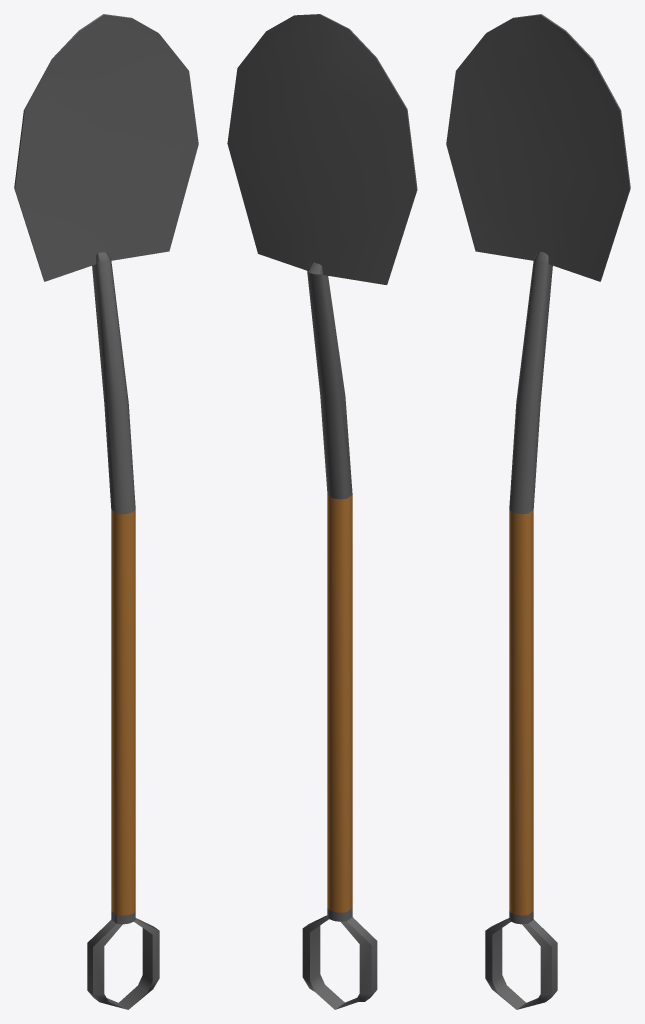
Rendered from shovel.fbx.
3 views of the same model, side by side, from view 1: azimuth 30°, elevation 25°; view 2: azimuth 150°, elevation 25°; view 3: azimuth 330°, elevation 25° (orthographic). The views are drawn at different scales.
Parts seen in each view (by area): view 1: Shovel; view 2: Shovel; view 3: Shovel.
Part boxes in pixels (box(x1,y1,x2,y2)): Shovel: box(14, 14, 198, 1009); Shovel: box(227, 14, 417, 1009); Shovel: box(446, 14, 630, 1009).
Size of the model in its own units: 1.75 by 8.91 by 0.5354.
